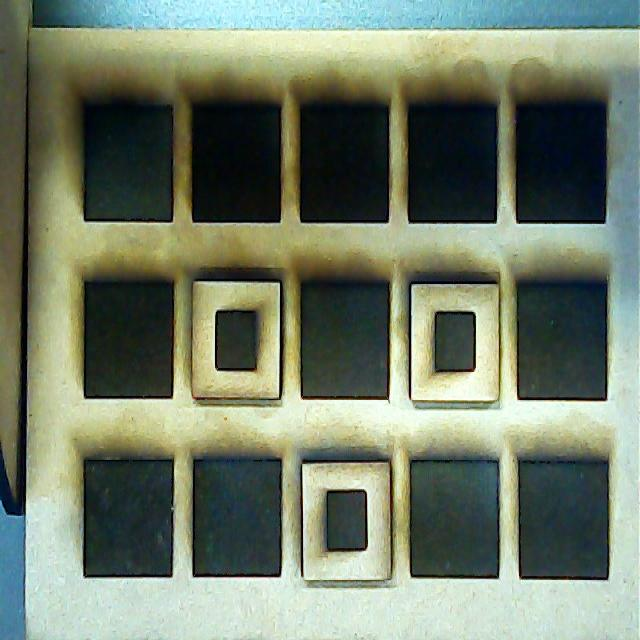square: (185, 269, 291, 406), (404, 272, 506, 410), (296, 455, 396, 589)
